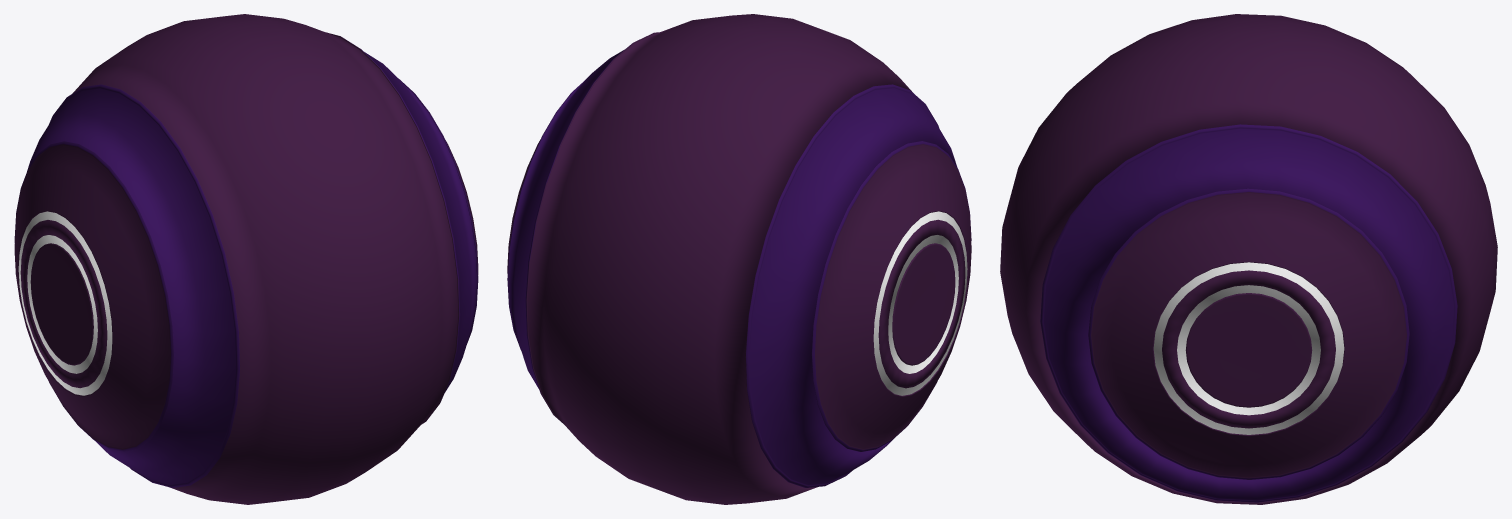
Rendered from LawnBowl.fbx.
The picture shows the model from 3 angles, left to right: view 1: azimuth 30°, elevation 25°; view 2: azimuth 150°, elevation 25°; view 3: azimuth 270°, elevation 25°; orthographic projection.
Visible parts, largest first — view 1: Sphere; view 2: Sphere; view 3: Sphere.
Part boxes in pixels (left/top/right/bottom): Sphere: left=14, top=14, right=478, bottom=504; Sphere: left=507, top=14, right=971, bottom=504; Sphere: left=1000, top=14, right=1497, bottom=504.
Bounding box in the file's own units: 95.07 × 110 × 110.
